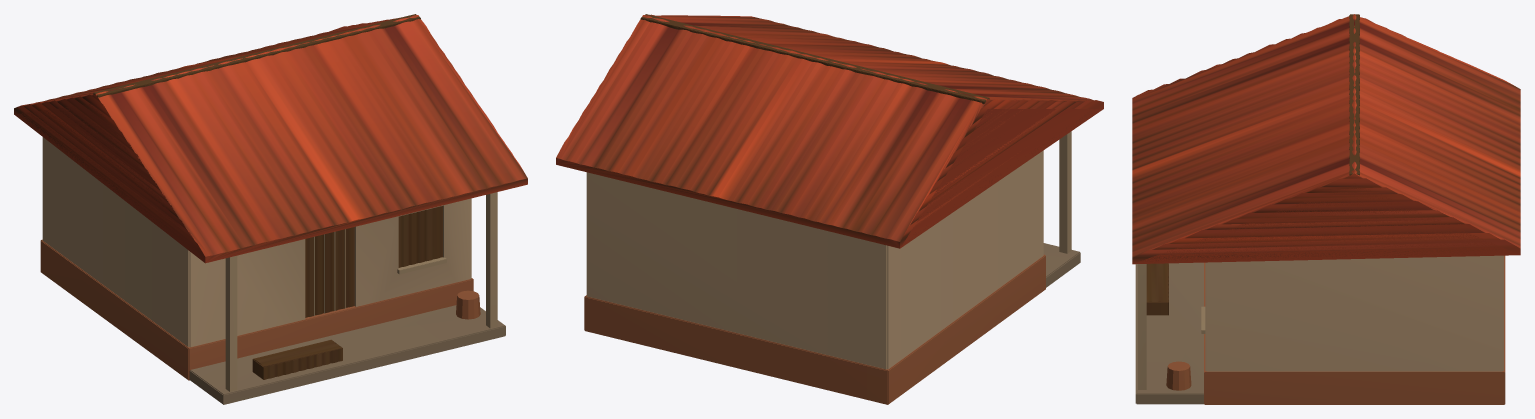
Rendered from bg_house_d.glb.
3 views of the same model, side by side, from view 1: azimuth 30°, elevation 25°; view 2: azimuth 150°, elevation 25°; view 3: azimuth 270°, elevation 25° (orthographic). The views are drawn at different scales.
Visible parts, largest first — view 1: hb_terracotta, hb_main; view 2: hb_terracotta, hb_main; view 3: hb_terracotta, hb_main.
Part boxes in pixels (x1=…): hb_terracotta: x1=14, y1=15, x2=527, y2=263; hb_main: x1=40, y1=14, x2=505, y2=404; hb_terracotta: x1=556, y1=14, x2=1103, y2=248; hb_main: x1=584, y1=14, x2=1080, y2=404; hb_terracotta: x1=1132, y1=14, x2=1520, y2=264; hb_main: x1=1135, y1=14, x2=1505, y2=404.
Bounding box in the file's own units: 5.7 × 4.02 × 5.85.
